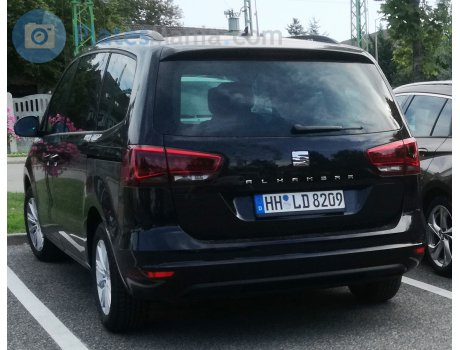License Plates: (261, 194, 342, 205)
